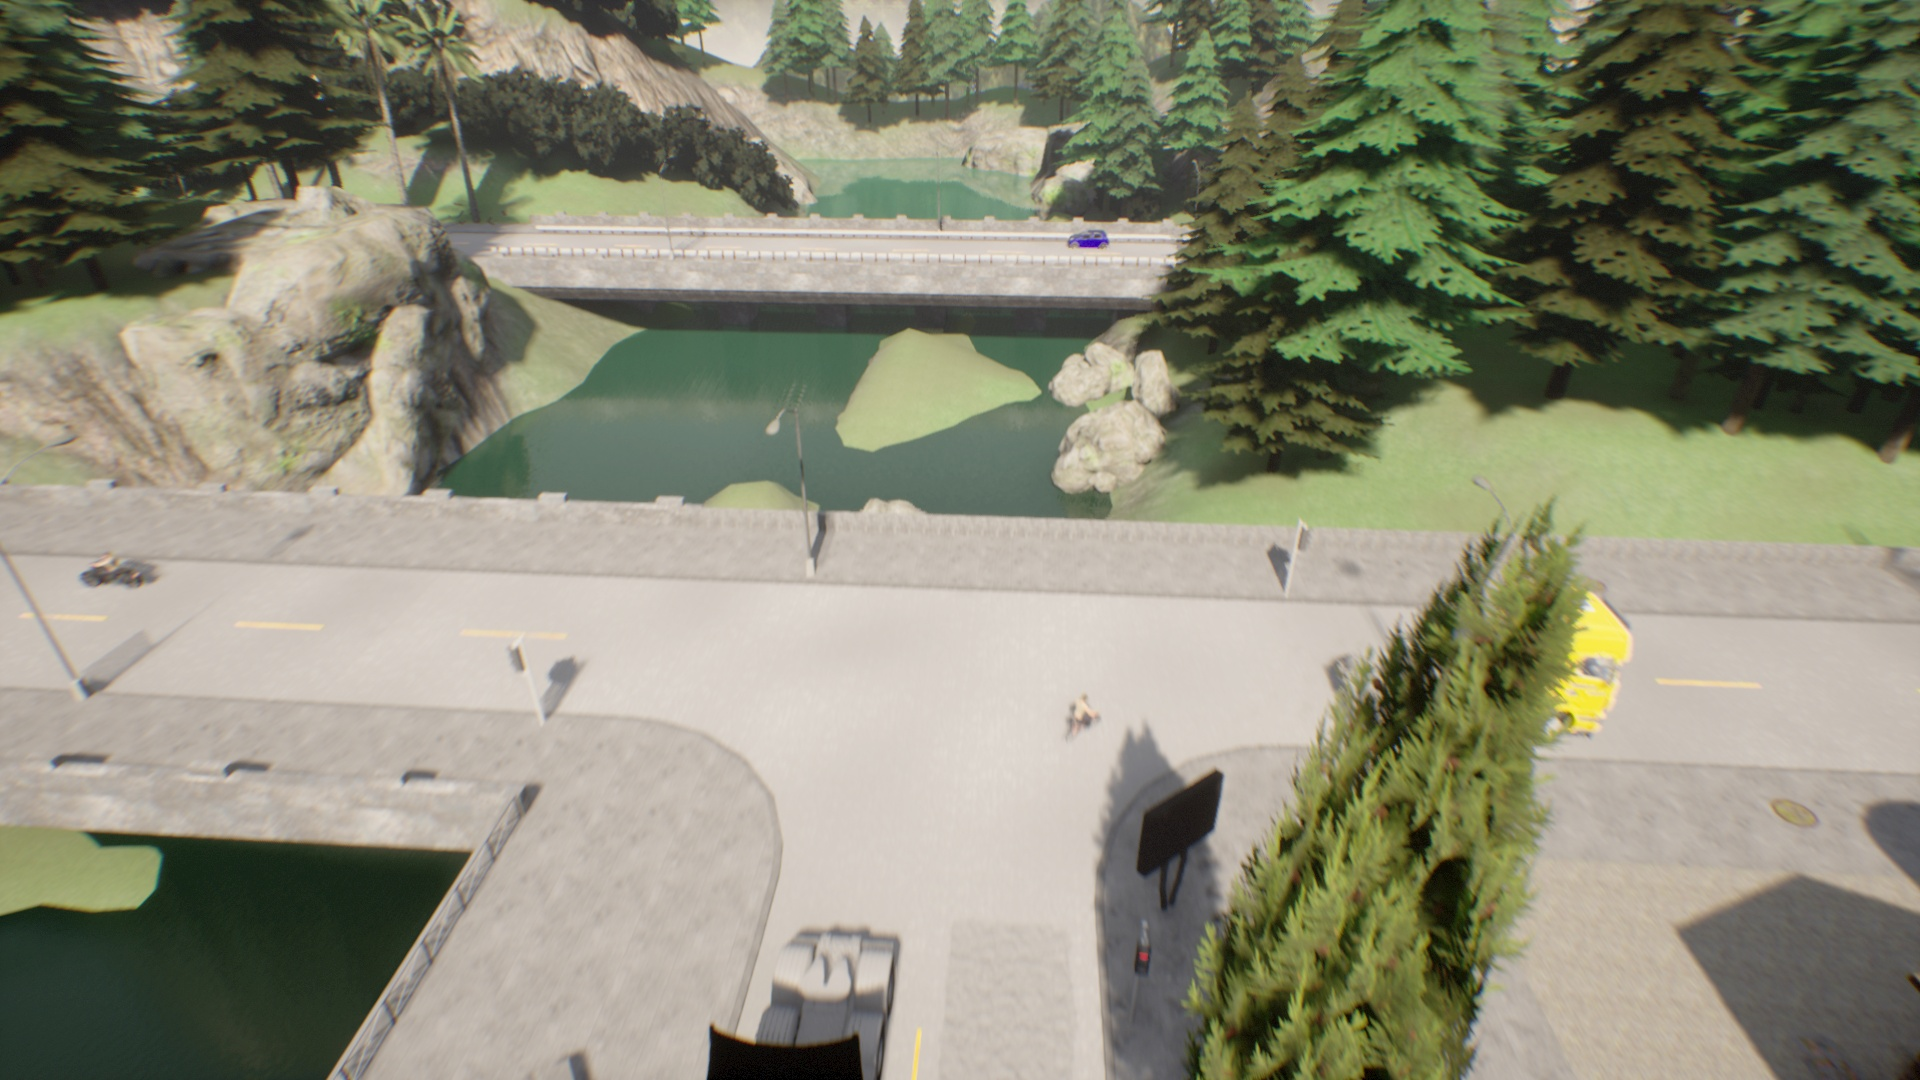Car: (1064, 225, 1118, 255)
Motorcycle: (69, 547, 162, 593)
Truck: (716, 905, 913, 1079), (1549, 593, 1618, 740)
